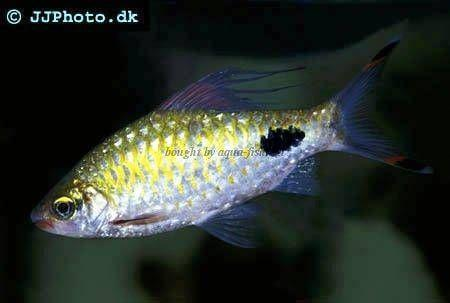Black Spotted Barb: (33, 42, 437, 245)
